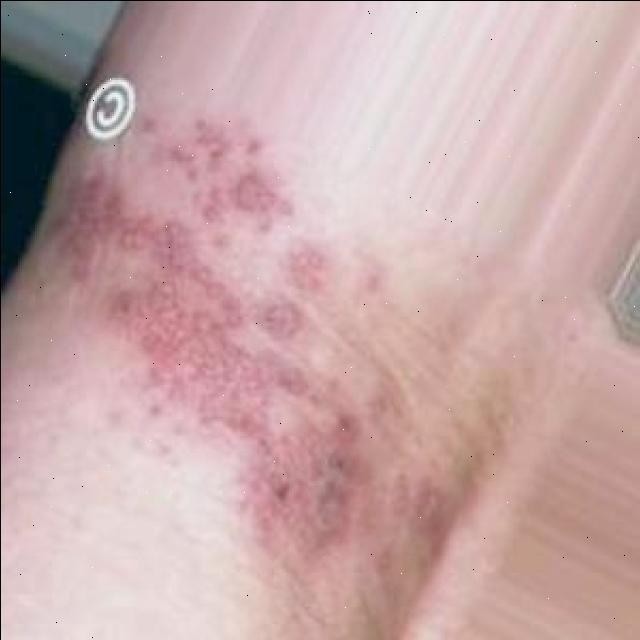Shingles: (77, 120, 371, 564)
